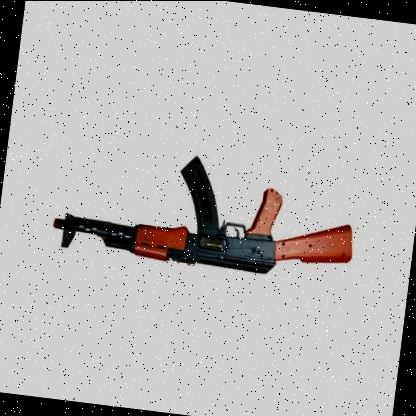rifle: (40, 131, 365, 306)
